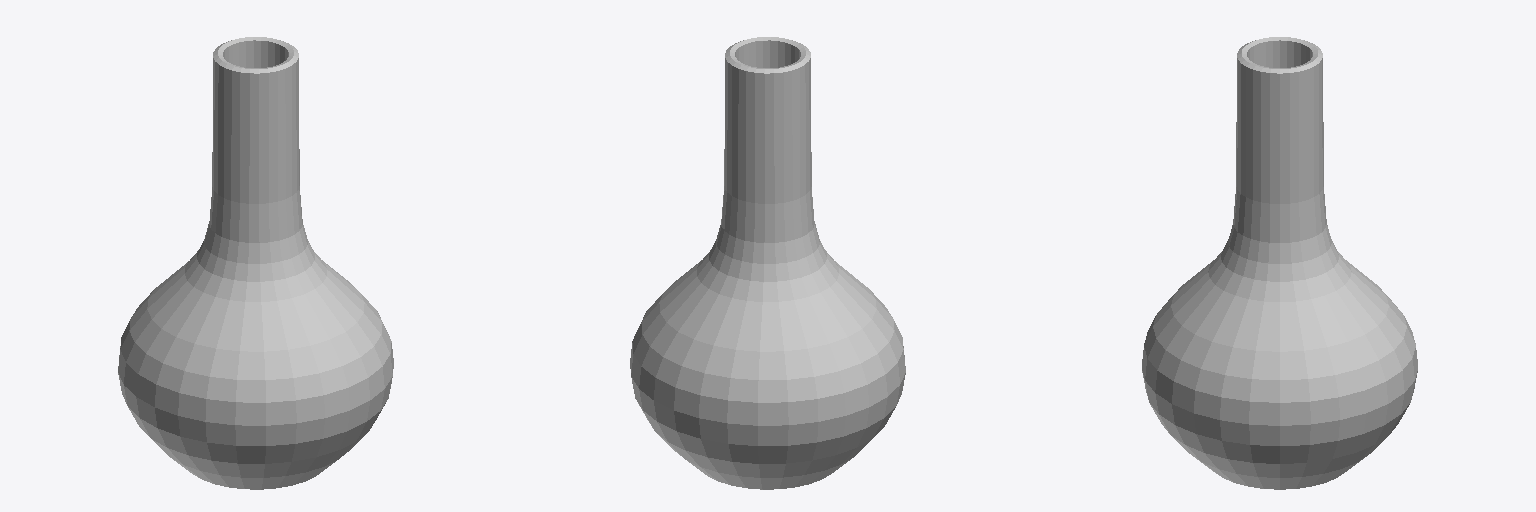
The model's file is Vase.obj.
The picture shows the model from 3 angles: view 1: azimuth 30°, elevation 25°; view 2: azimuth 150°, elevation 25°; view 3: azimuth 270°, elevation 25°; orthographic projection.
Visible parts, largest first — view 1: OPM0062_Plane.001; view 2: OPM0062_Plane.001; view 3: OPM0062_Plane.001.
Boxes of the visible parts, box(x1,y1,x2,y2) form: OPM0062_Plane.001: box(118, 37, 393, 489); OPM0062_Plane.001: box(630, 37, 905, 489); OPM0062_Plane.001: box(1142, 37, 1417, 489).
Size of the model in its own units: 0.2696 by 0.4361 by 0.2696.